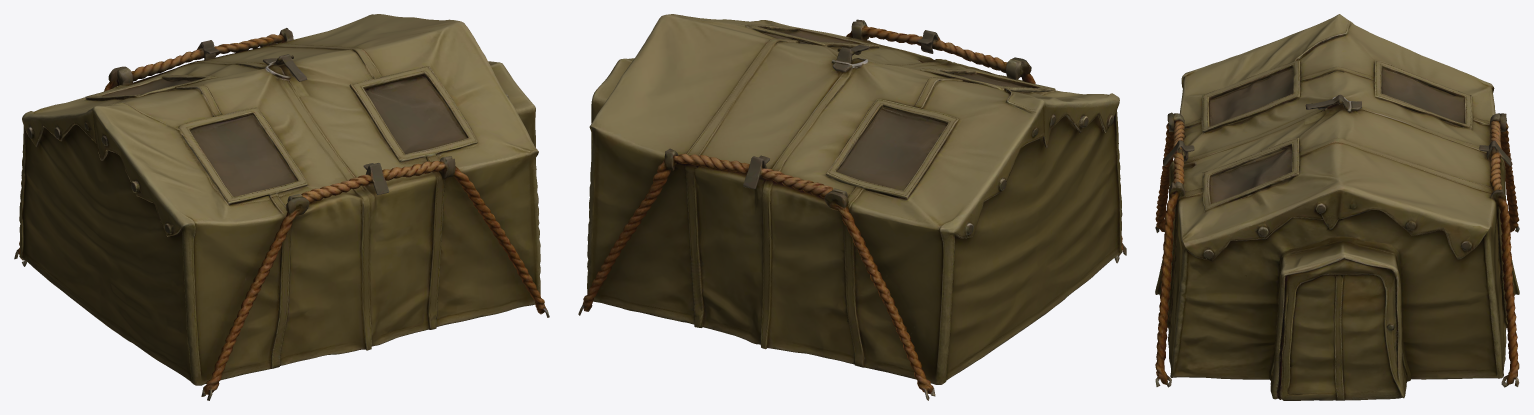
The model's file is Militarytent2.glb.
3 views of the same model, side by side, from view 1: azimuth 30°, elevation 25°; view 2: azimuth 150°, elevation 25°; view 3: azimuth 270°, elevation 25° (orthographic). The views are drawn at different scales.
Visible parts, largest first — view 1: tripo_node_7a7bcf44-0819-4b03-97d9-3aab9ac3d5ce; view 2: tripo_node_7a7bcf44-0819-4b03-97d9-3aab9ac3d5ce; view 3: tripo_node_7a7bcf44-0819-4b03-97d9-3aab9ac3d5ce.
Boxes of the visible parts, left/top/right/bottom form: tripo_node_7a7bcf44-0819-4b03-97d9-3aab9ac3d5ce: left=14, top=14, right=549, bottom=400; tripo_node_7a7bcf44-0819-4b03-97d9-3aab9ac3d5ce: left=578, top=14, right=1126, bottom=400; tripo_node_7a7bcf44-0819-4b03-97d9-3aab9ac3d5ce: left=1155, top=14, right=1519, bottom=400.
Bounding box in the file's own units: 1 × 0.539 × 0.8184.
Materials: 1 (1 with a texture image).
